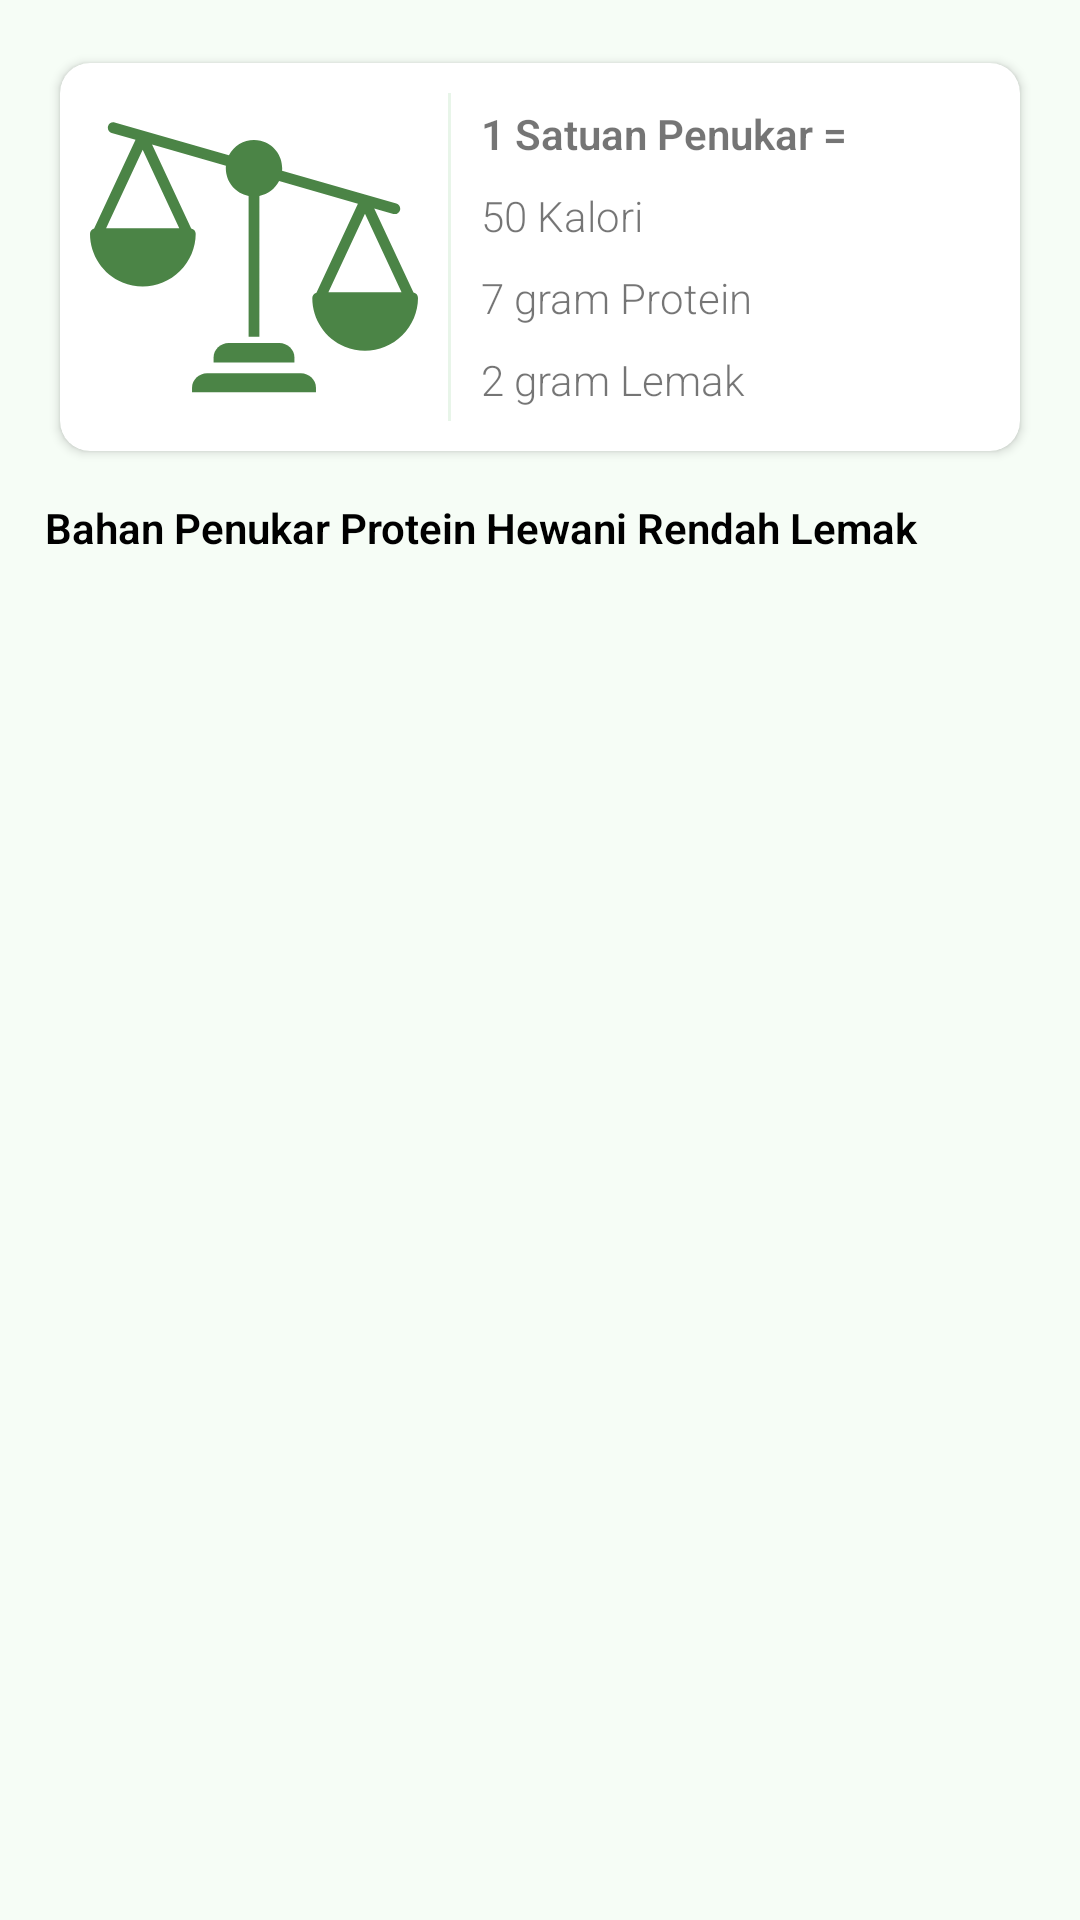

Icons on this 1080 × 1920 Android screen, each with the point to tap as point (x, y):
balance: point (254, 257)
